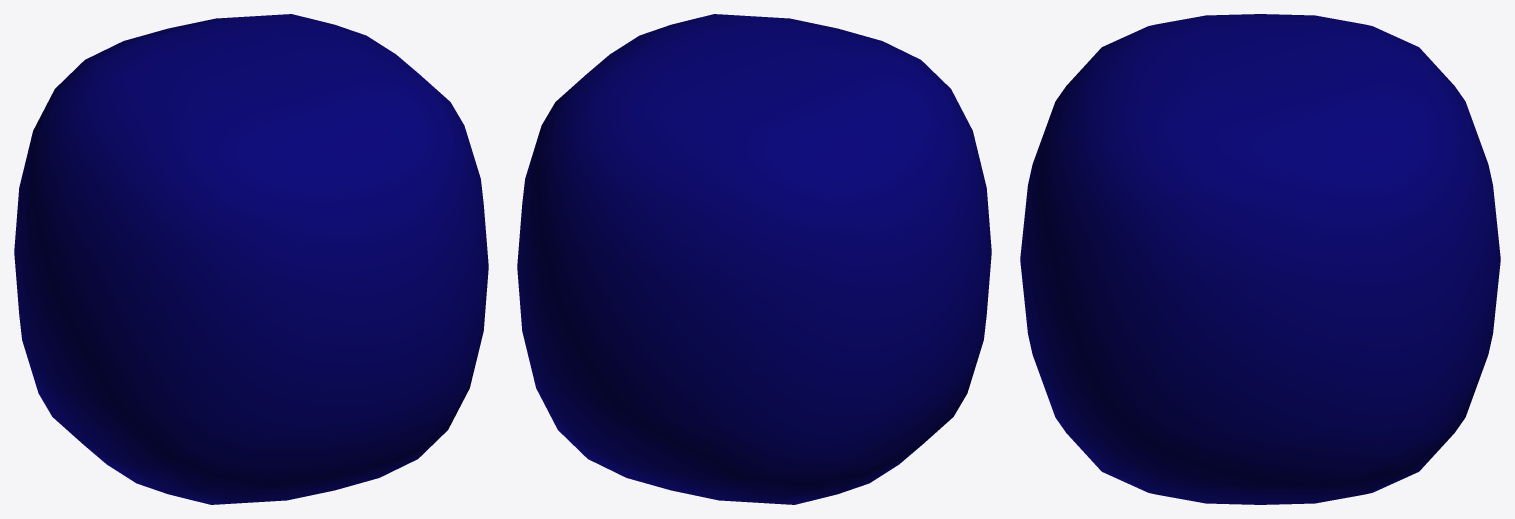
Rendered from bullettower3.fbx.
3 renders of one model, left to right at view 1: azimuth 30°, elevation 25°; view 2: azimuth 150°, elevation 25°; view 3: azimuth 270°, elevation 25°, orthographic. The views are drawn at different scales.
Visible parts, largest first — view 1: Plane; view 2: Plane; view 3: Plane.
Boxes of the visible parts, x1,y1,x2,y2 form: Plane: [14, 14, 488, 504]; Plane: [517, 14, 991, 504]; Plane: [1020, 14, 1500, 504].
Size of the model in its own units: 103 by 93.46 by 103.
